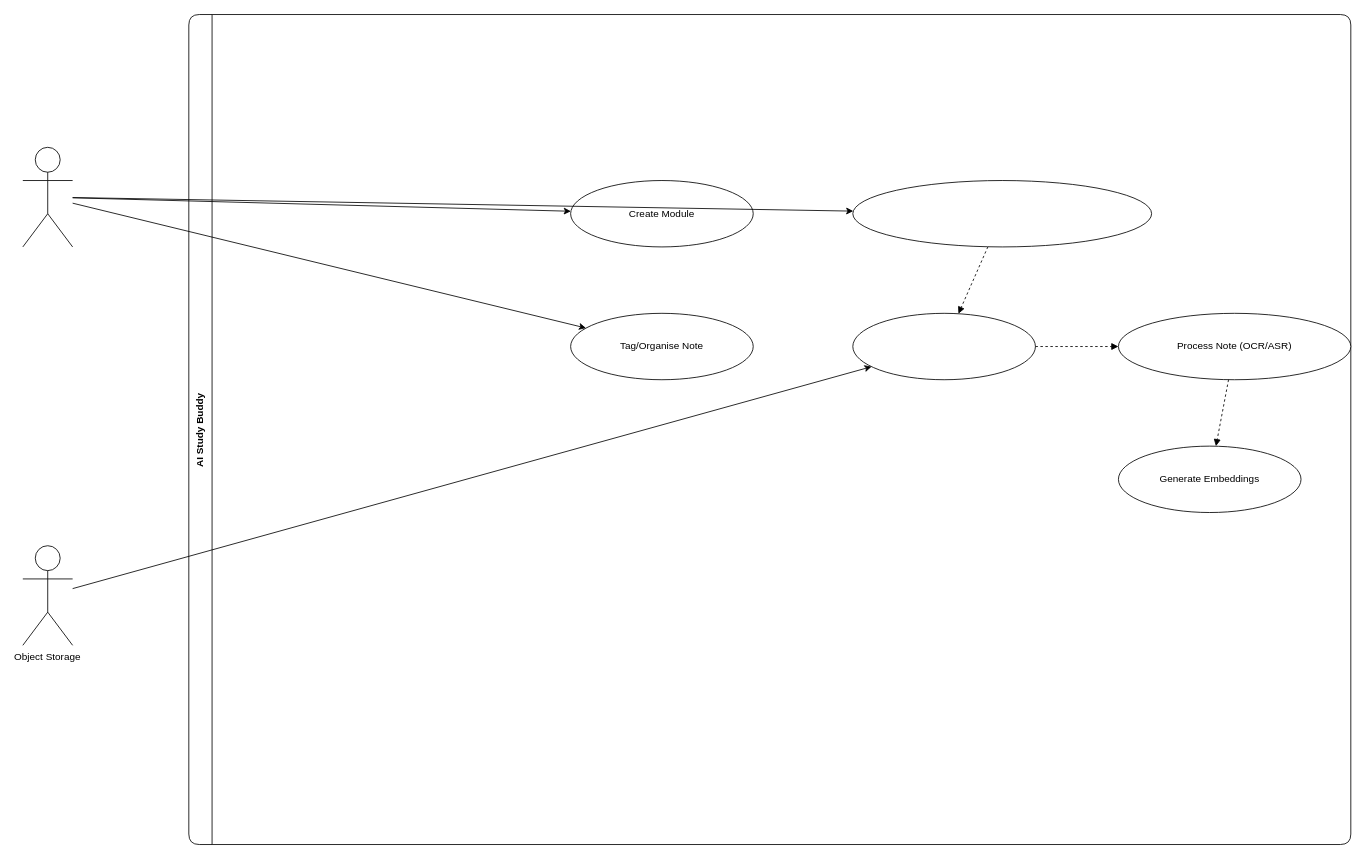
Some shapes in this 1365 by 859 pixel diagram are drawn without their labels. The shapes that lost their labels are listed below. From the top down, each one's box as (x1, y1, x2, y2) in pixels, then its label:
(22, 146, 73, 247): Student
(852, 180, 1152, 247): Add Note (text/PDF/image/audio/video)
(852, 312, 1035, 380): Upload File
